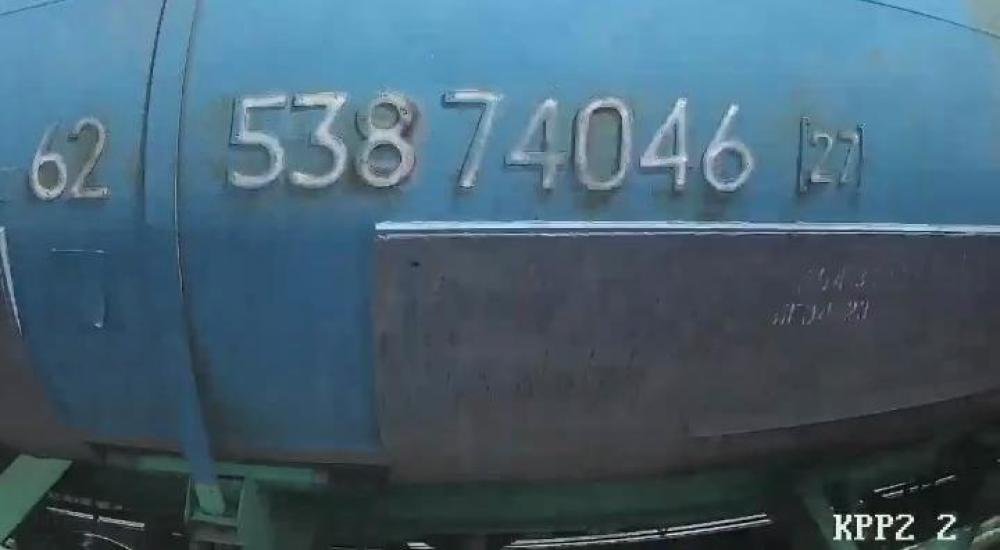Wagon-number: (220, 83, 760, 201)
